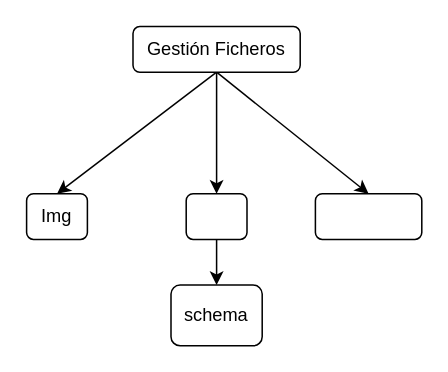
This 448x372 diagram has some shape labels left out. The centre of each missing label's shape, as x and y in pixels:
src: (x=216, y=215)
versions: (x=368, y=215)
